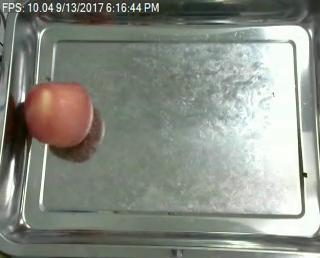apple: (25, 79, 95, 148)
